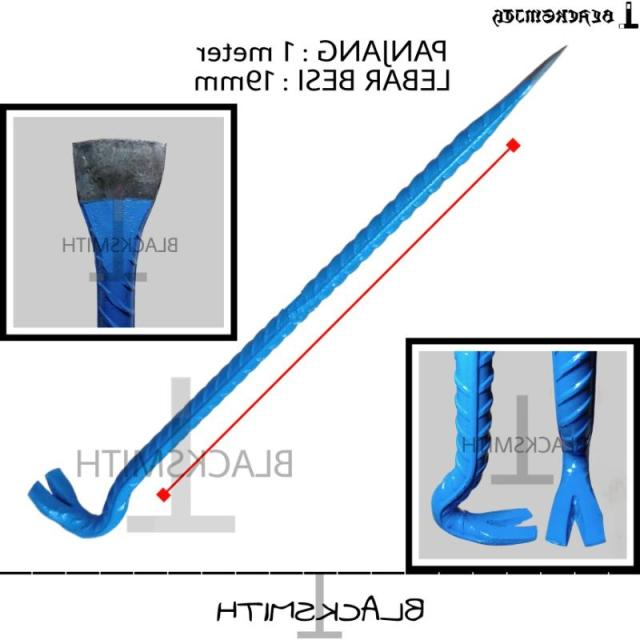Linggis: (28, 43, 570, 539)
